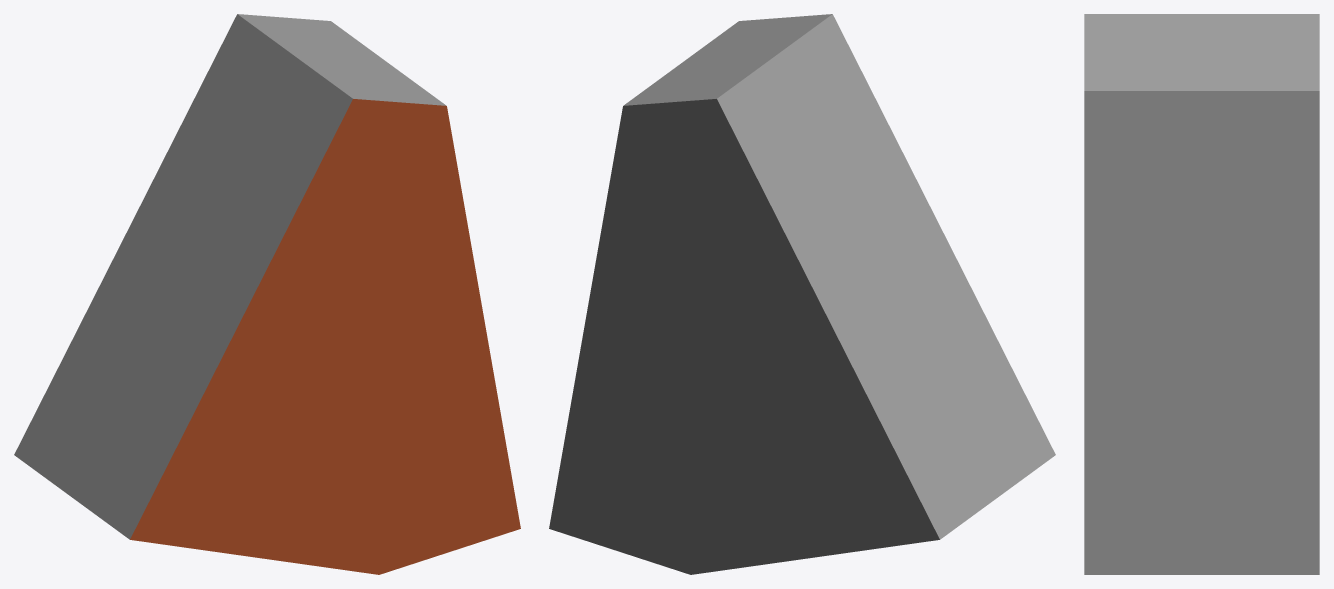
Rendered from construction_1248_assumed_A_Casa_h6m.obj.
The picture shows the model from 3 angles, left to right: view 1: azimuth 30°, elevation 25°; view 2: azimuth 150°, elevation 25°; view 3: azimuth 270°, elevation 25°; orthographic projection.
Visible parts, largest first — view 1: construction_1248_assumed_A_Casa; view 2: construction_1248_assumed_A_Casa; view 3: construction_1248_assumed_A_Casa.
Boxes of the visible parts, x1,y1,x2,y2 form: construction_1248_assumed_A_Casa: (14,14,520,574); construction_1248_assumed_A_Casa: (549,14,1055,574); construction_1248_assumed_A_Casa: (1084,14,1319,574).
Size of the model in its own units: 11.69 by 13.78 by 6.
